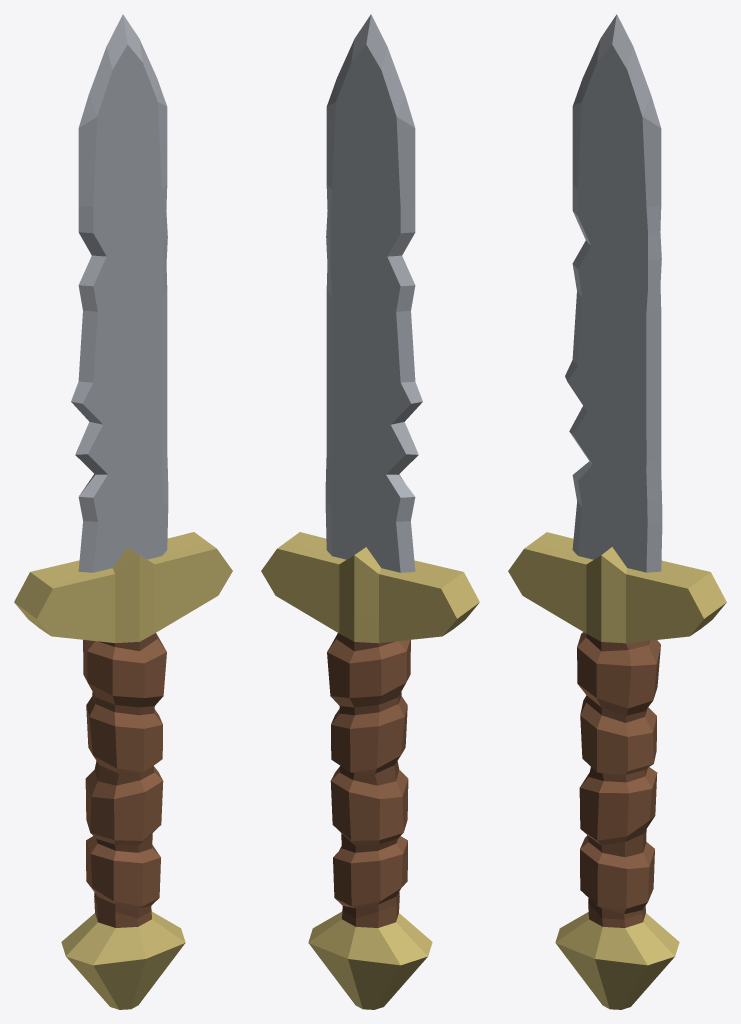
The model's file is knife_1000.glb.
The picture shows the model from 3 angles, left to right: view 1: azimuth 30°, elevation 25°; view 2: azimuth 150°, elevation 25°; view 3: azimuth 330°, elevation 25°; orthographic projection.
Parts seen in each view (by area): view 1: Knife_1000; view 2: Knife_1000; view 3: Knife_1000.
Boxes of the visible parts, bbox=[...] form: Knife_1000: bbox=[14, 14, 232, 1009]; Knife_1000: bbox=[261, 14, 479, 1009]; Knife_1000: bbox=[508, 14, 726, 1009].
Bounding box in the file's own units: 0.644 × 3.11 × 0.2564.
